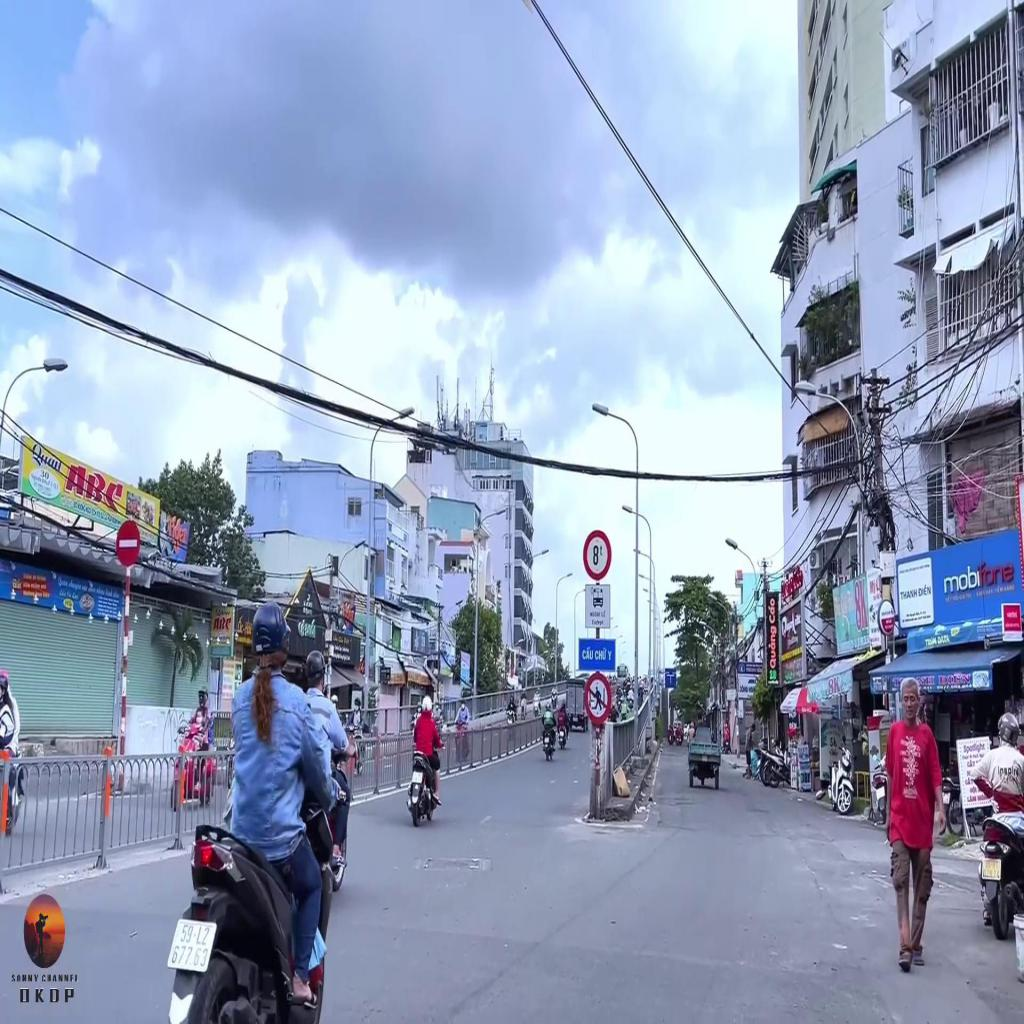cam_xe_di_nguoc_chieu: (116, 520, 140, 565)
khac: (583, 530, 612, 581), (584, 672, 611, 726), (585, 584, 611, 629), (579, 639, 614, 672), (665, 668, 676, 690)
